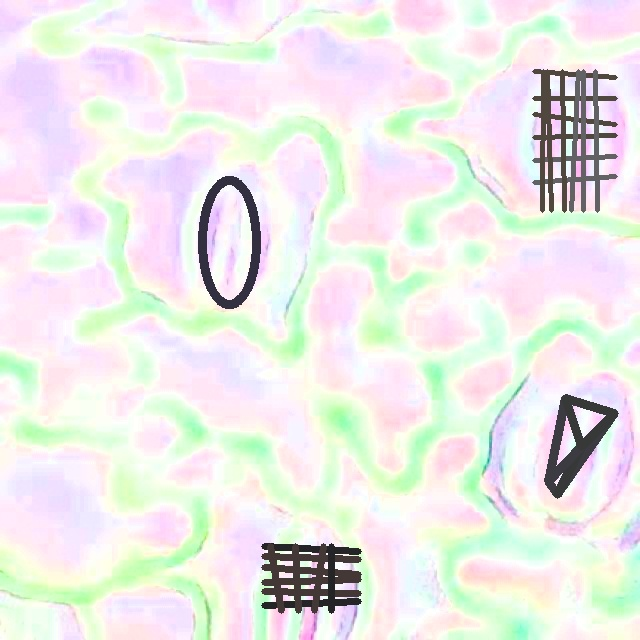open: (532, 69, 617, 212), (198, 175, 261, 309), (544, 394, 618, 498), (261, 543, 361, 613)
